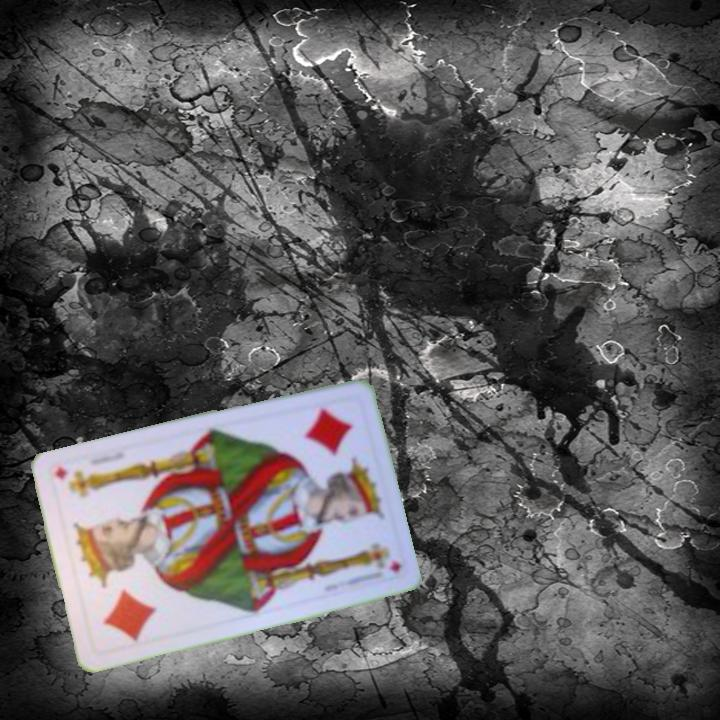d_k.png: (275, 391, 381, 507), (69, 539, 175, 655)
